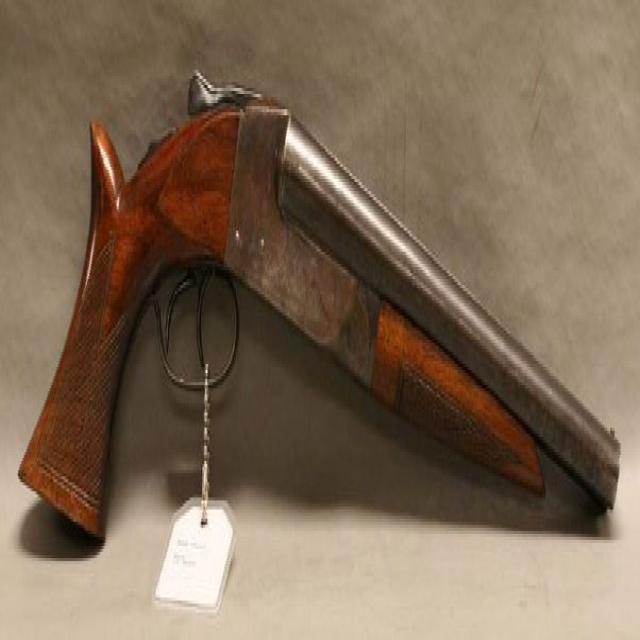ShotGun: (18, 70, 621, 561)
